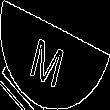M_N: (34, 24, 76, 86)
